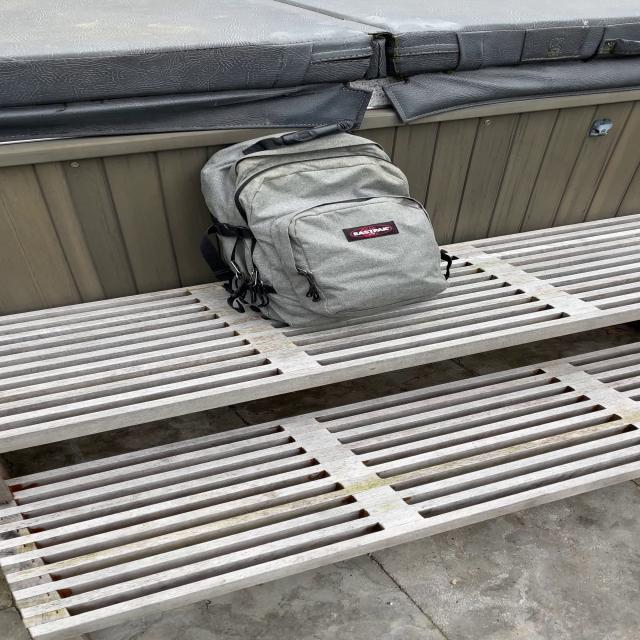backpack: (188, 127, 453, 335)
